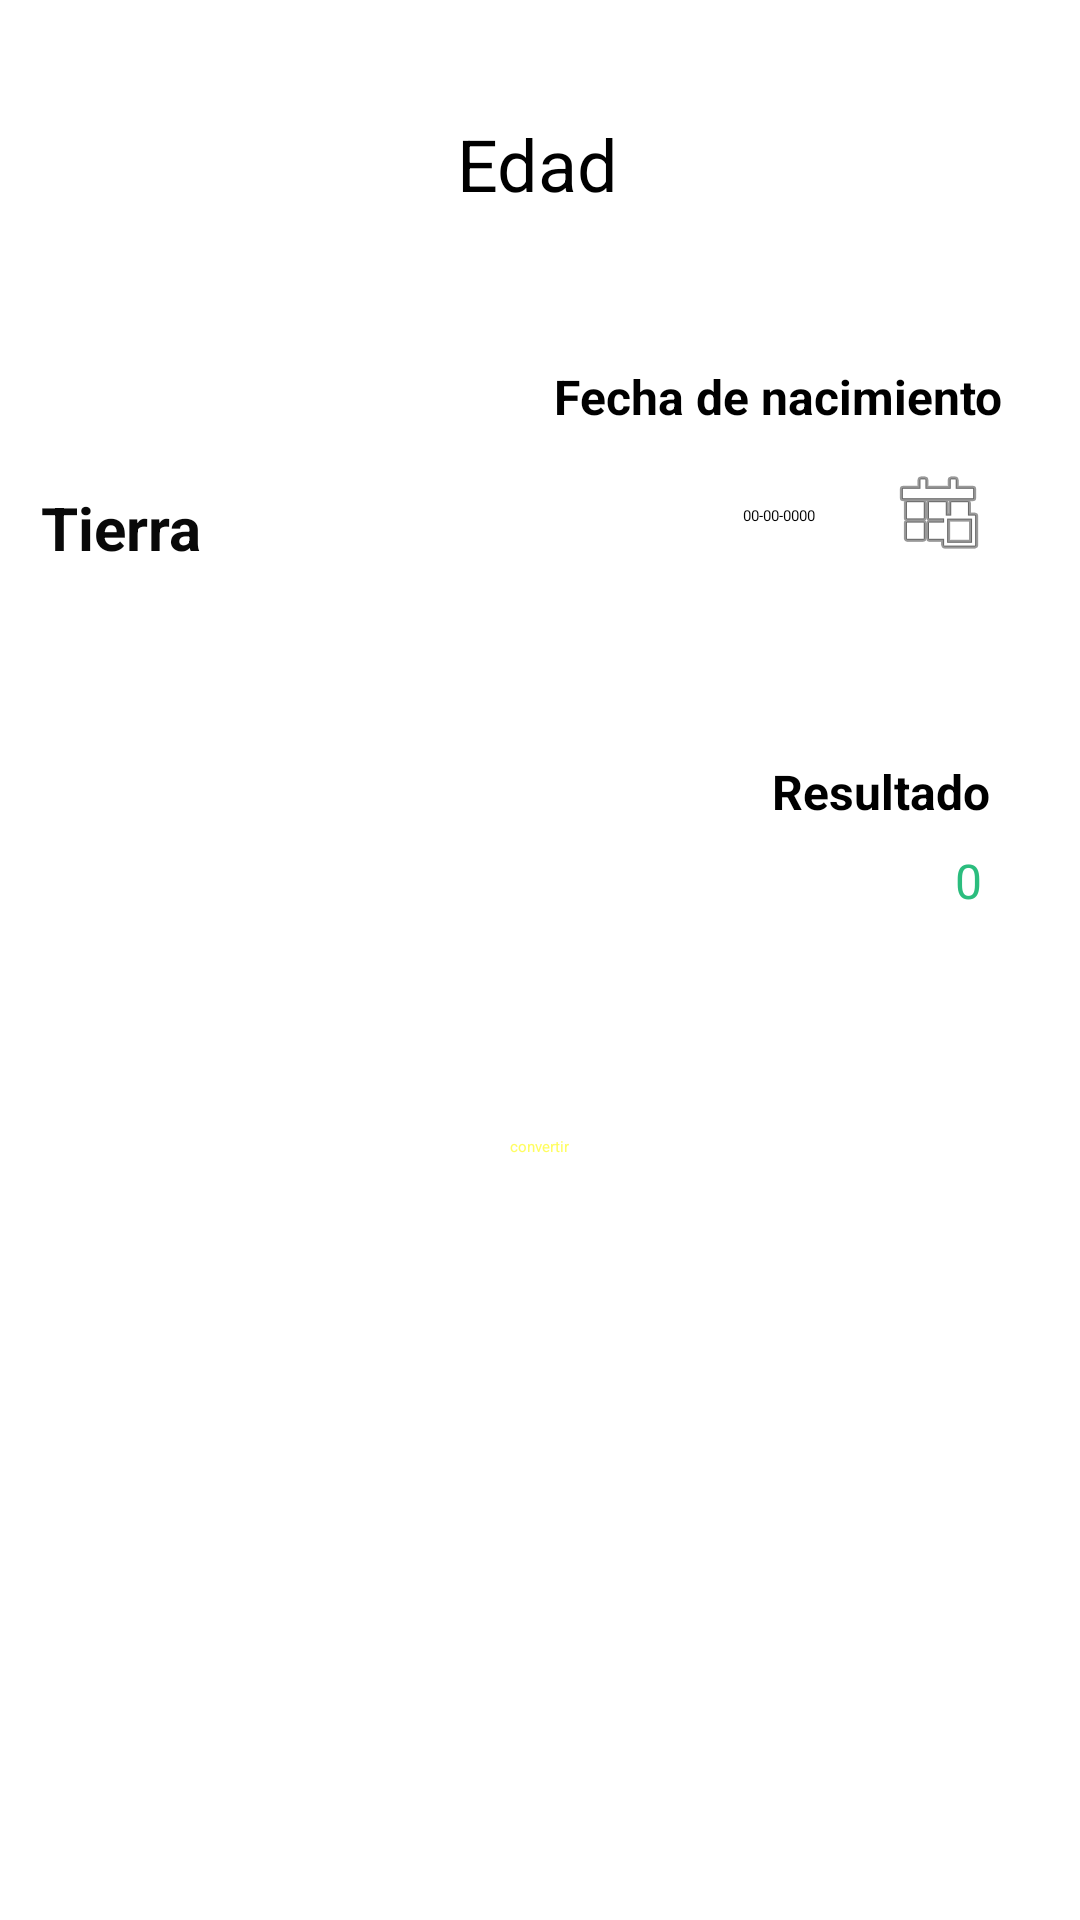

Where icons sit on this 1080 x 1920 app screen, as (x1, y1, x2, y2):
today: (900, 476, 978, 549)
